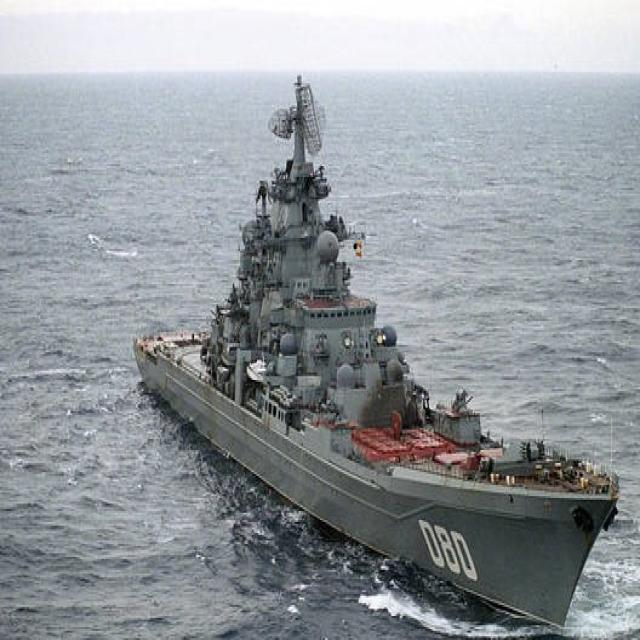navalvessels: (136, 74, 616, 622)
